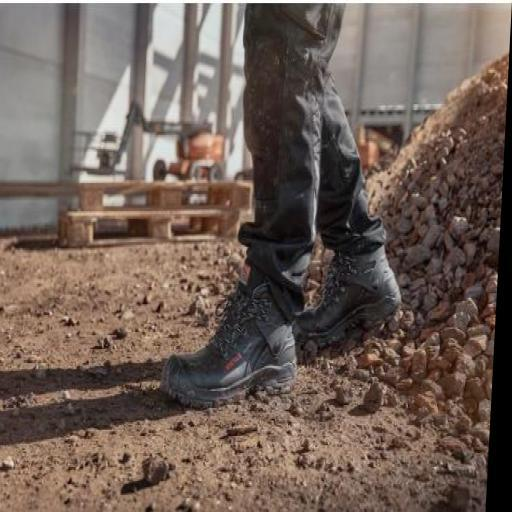safety_boots: (115, 276, 322, 415), (316, 252, 423, 351)
